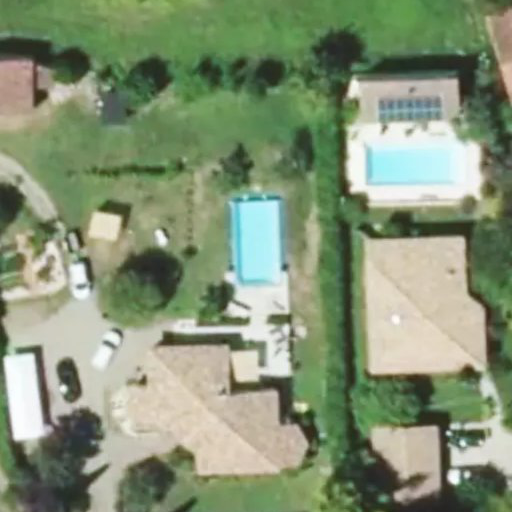pool: (232, 199, 279, 284)
